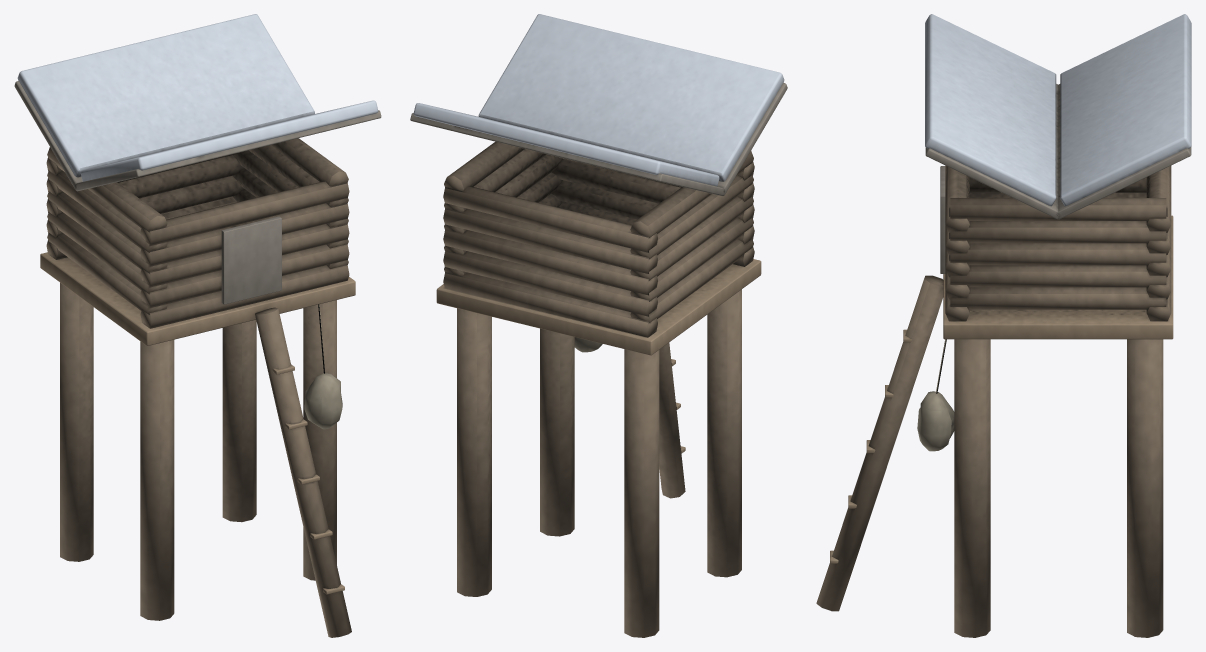
The model's file is labaz.glb.
The picture shows the model from 3 angles, left to right: view 1: azimuth 30°, elevation 25°; view 2: azimuth 150°, elevation 25°; view 3: azimuth 270°, elevation 25°; orthographic projection. The views are drawn at different scales.
Parts seen in each view (by area): view 1: labaz; view 2: labaz; view 3: labaz.
Boxes of the visible parts, x1,y1,x2,y2 form: labaz: [14, 14, 381, 637]; labaz: [410, 14, 787, 637]; labaz: [816, 14, 1191, 637].
Bounding box in the file's own units: 2.1 × 3.96 × 2.61.
Materials: 1 (1 with a texture image).
